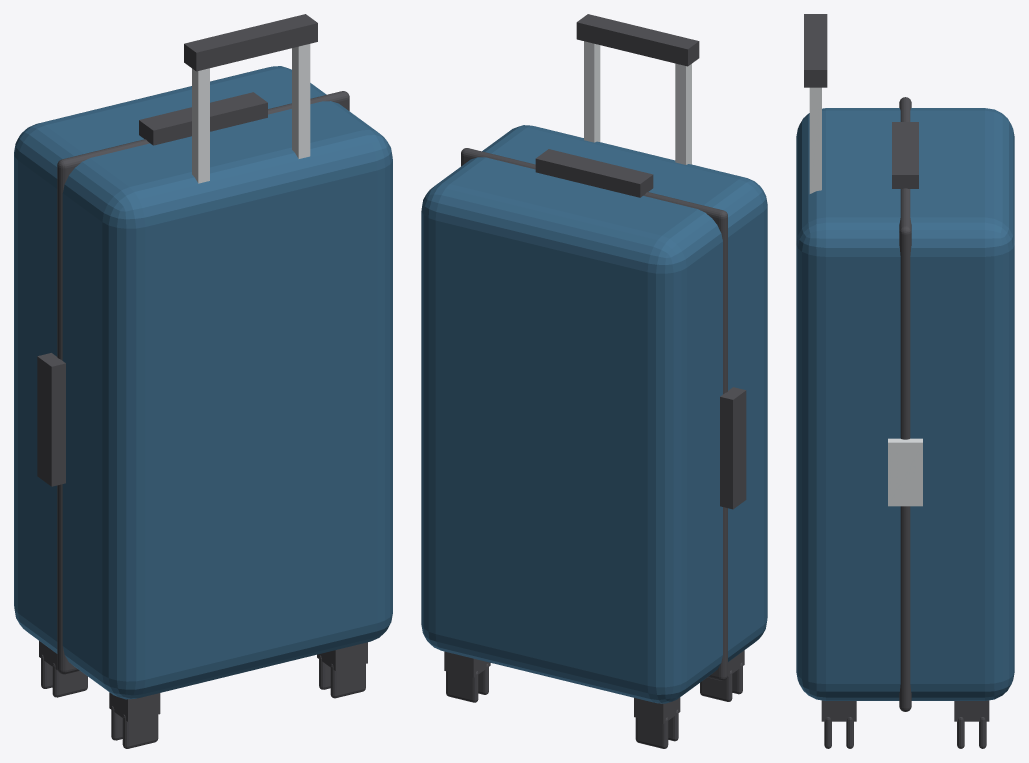
File: samsonite_spinner.glb
3 renders of one model, left to right at view 1: azimuth 30°, elevation 25°; view 2: azimuth 150°, elevation 25°; view 3: azimuth 270°, elevation 25°, orthographic. The views are drawn at different scales.
Parts seen in each view (by area): view 1: Luggage_Shell, Luggage_Telescopic_Grip, Luggage_Perimeter_Gasket, Luggage_Side_Handle, Luggage_Top_Handle, Luggage_Rail_R, Luggage_Rail_L, Luggage_Caster_1, Luggage_Wheel_1_A, Luggage_Wheel_2_A, Luggage_Caster_2, Luggage_Wheel_3_A; view 2: Luggage_Shell, Luggage_Telescopic_Grip, Luggage_Side_Handle, Luggage_Perimeter_Gasket, Luggage_Top_Handle, Luggage_Rail_L, Luggage_Rail_R, Luggage_Caster_3, Luggage_Wheel_3_B, Luggage_Wheel_4_B, Luggage_Caster_4, Luggage_Wheel_1_B; view 3: Luggage_Shell, Luggage_Perimeter_Gasket, Luggage_TSA_Lock, Luggage_Top_Handle, Luggage_Telescopic_Grip, Luggage_Rail_R, Luggage_Caster_2, Luggage_Caster_4.
Boxes of the visible parts, x1,y1,x2,y2 form: Luggage_Shell: (14,66,392,699); Luggage_Telescopic_Grip: (184,14,317,71); Luggage_Perimeter_Gasket: (57,91,349,674); Luggage_Side_Handle: (37,353,65,486); Luggage_Top_Handle: (139,92,267,145); Luggage_Rail_R: (292,44,310,158); Luggage_Rail_L: (192,68,209,183); Luggage_Caster_1: (109,692,160,721); Luggage_Wheel_1_A: (122,714,158,748); Luggage_Wheel_2_A: (330,663,365,698); Luggage_Caster_2: (317,642,367,670); Luggage_Wheel_3_A: (52,663,87,697); Luggage_Shell: (421,125,767,703); Luggage_Telescopic_Grip: (576,14,699,66); Luggage_Side_Handle: (720,387,746,509); Luggage_Perimeter_Gasket: (461,148,727,680); Luggage_Top_Handle: (535,149,653,197); Luggage_Rail_L: (675,63,691,164); Luggage_Rail_R: (584,41,600,142); Luggage_Caster_3: (634,697,680,724); Luggage_Wheel_3_B: (635,717,668,748); Luggage_Wheel_4_B: (446,671,478,702); Luggage_Caster_4: (444,651,490,677); Luggage_Wheel_1_B: (700,670,732,701); Luggage_Shell: (796,108,1014,700); Luggage_Perimeter_Gasket: (899,97,911,711); Luggage_TSA_Lock: (888,438,922,506); Luggage_Top_Handle: (892,122,918,188); Luggage_Telescopic_Grip: (804,14,827,87); Luggage_Rail_R: (809,87,821,193); Luggage_Caster_2: (821,700,856,721); Luggage_Caster_4: (954,700,989,721).
Size of what is drawn, in the model's own units: 0.4345 by 0.9225 by 0.28.
